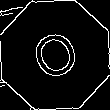O_SE: (25, 23, 85, 87)
